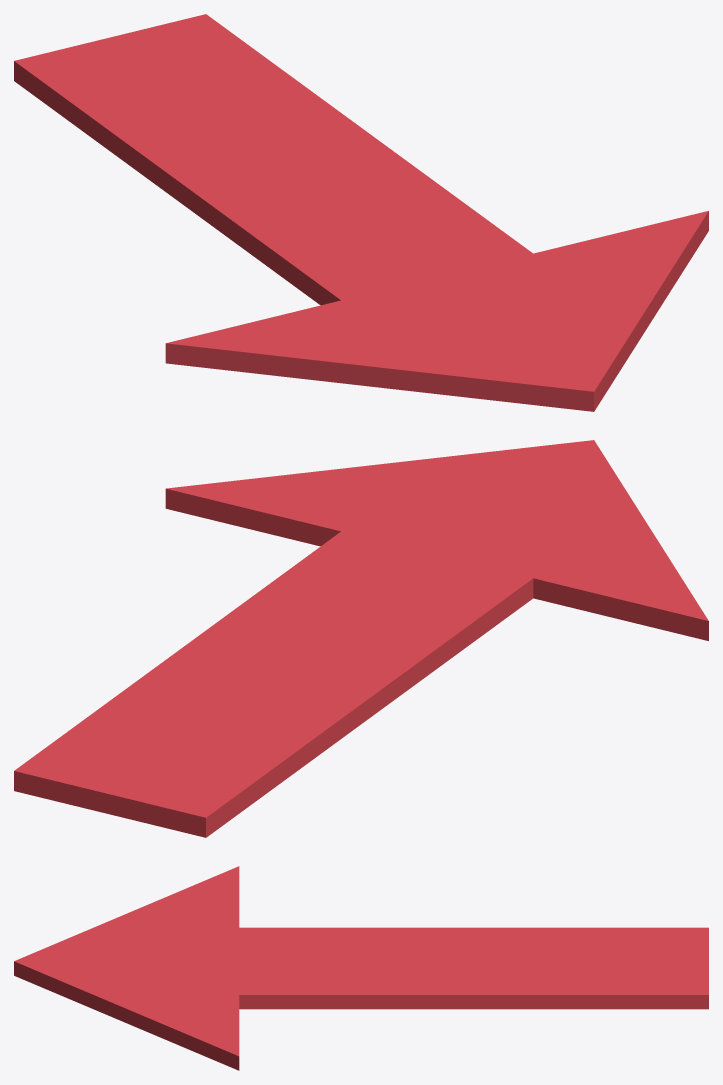
Rendered from Arrow.fbx.
The picture shows the model from 3 angles, top to bottom: view 1: azimuth 30°, elevation 25°; view 2: azimuth 150°, elevation 25°; view 3: azimuth 270°, elevation 25°; orthographic projection. The views are drawn at different scales.
Parts seen in each view (by area): view 1: Cube, Cube.001; view 2: Cube, Cube.001; view 3: Cube, Cube.001.
Part boxes in pixels (<box>): Cube: <box>14,14,532,305</box>; Cube.001: <box>165,211,708,411</box>; Cube: <box>14,528,538,837</box>; Cube.001: <box>165,440,708,640</box>; Cube: <box>231,927,708,1009</box>; Cube.001: <box>14,866,239,1070</box>.
Bounding box in the file's own units: 566 × 20 × 873.
